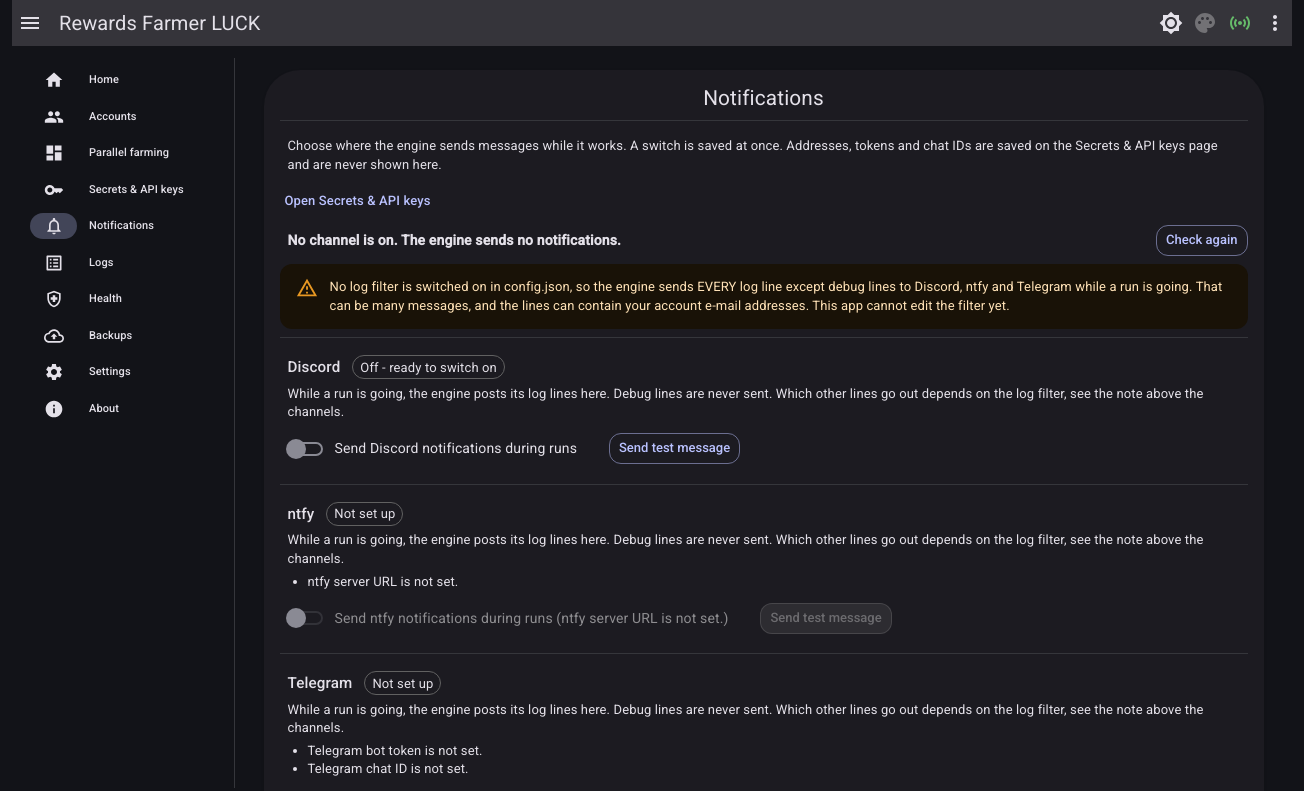
Test case: Notifications page (Phase 17) › failure "permission-denied" is shown with its exact text and the honest request line
Expected: the element with test id "notify-card-discord" is shown, [280, 337, 1248, 484]
Click the button with aria-label "Send test message to Discord". click: [675, 449]
box: [609, 434, 740, 464]
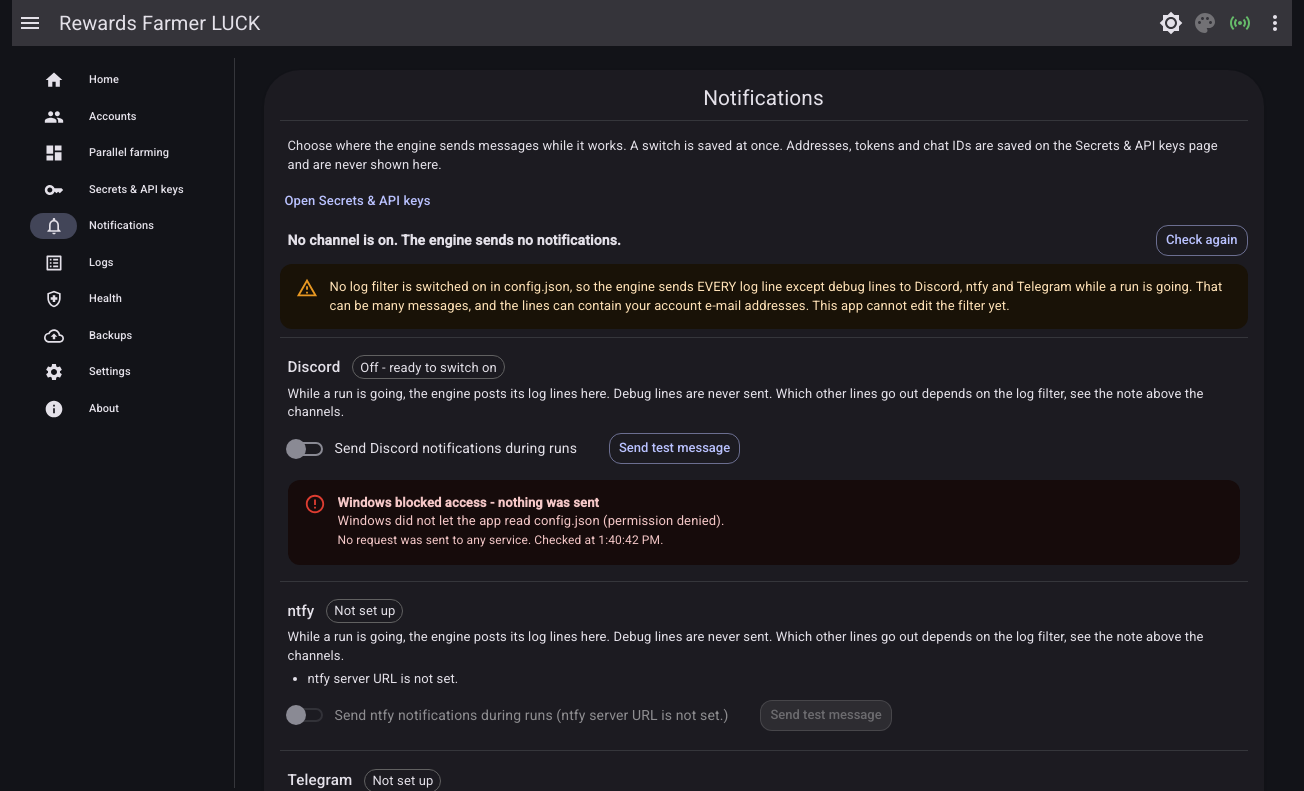
Expected: the message with test id "notify-result-discord" shows "Windows blocked access - nothing was sent", [338, 495, 599, 510]
Expected: the message with test id "notify-result-discord" shows "Windows did not let the app read config.json (permission denied).", [338, 513, 724, 528]
Expected: the message with test id "notify-result-discord" shows "No request was sent to any service.", [338, 533, 664, 547]
